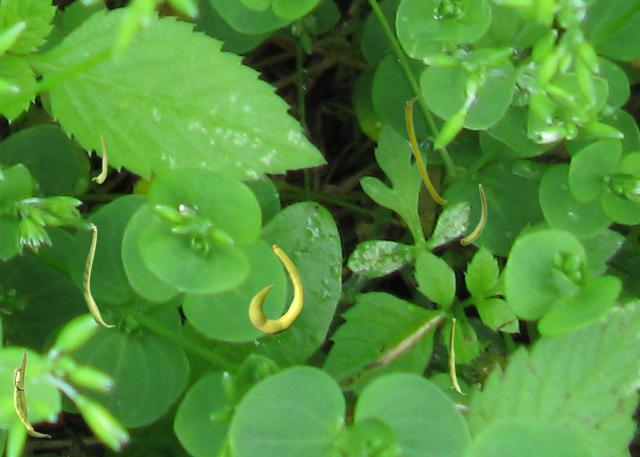french_bean: (248, 244, 303, 333), (405, 96, 446, 203), (83, 223, 114, 326), (19, 348, 50, 437), (460, 183, 486, 244), (448, 318, 465, 393), (13, 367, 32, 428), (92, 134, 106, 182)
